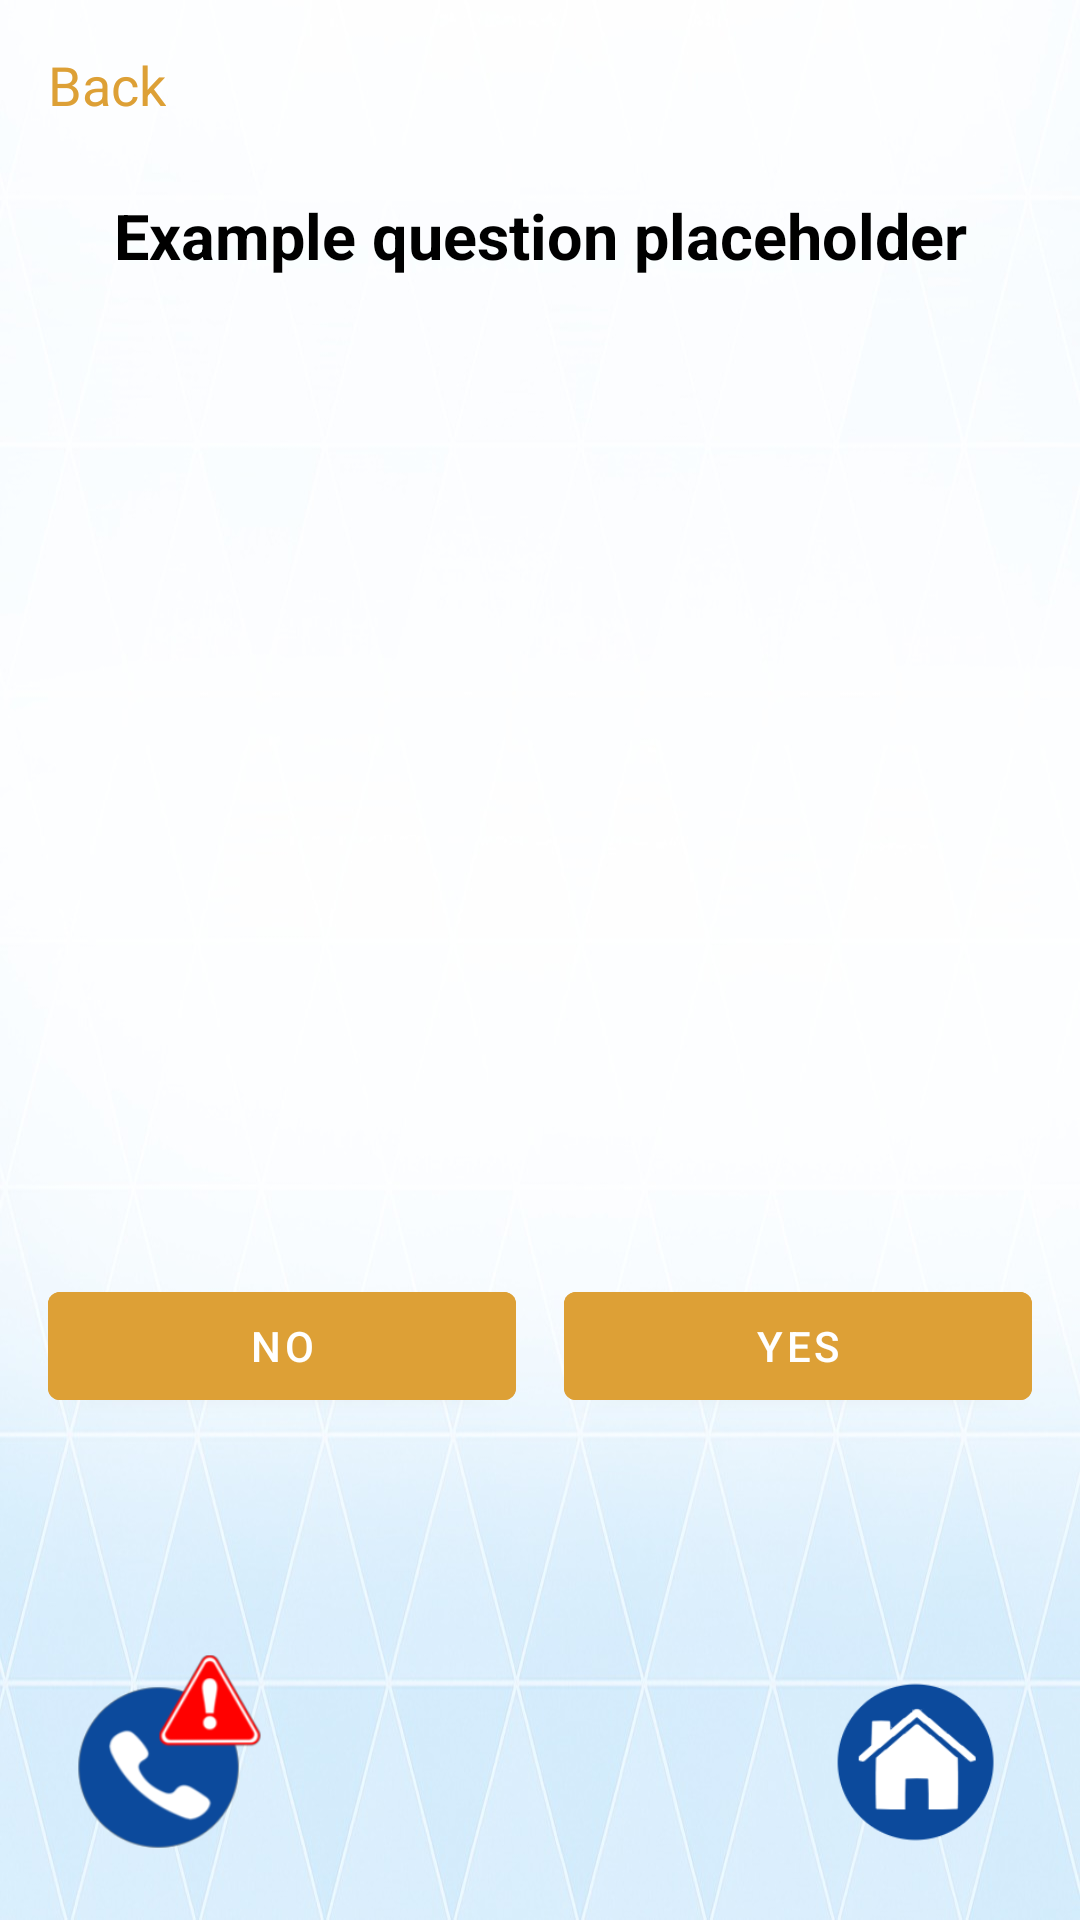

Icon click points for this 1080w x 1920h phone screenshot, format (x=x, y=y):
emergencybutton: (x=172, y=1750)
home: (x=915, y=1768)
